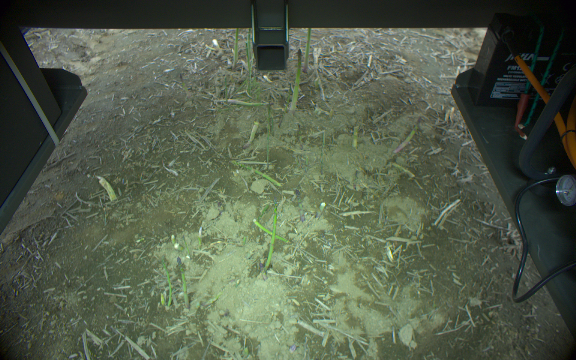aspa: (229, 159, 282, 189), (252, 216, 292, 246), (263, 199, 280, 268), (393, 116, 423, 155), (287, 47, 301, 113), (175, 256, 191, 310), (158, 255, 174, 305), (212, 97, 274, 107), (240, 121, 260, 147), (302, 27, 313, 71), (231, 28, 239, 69)
